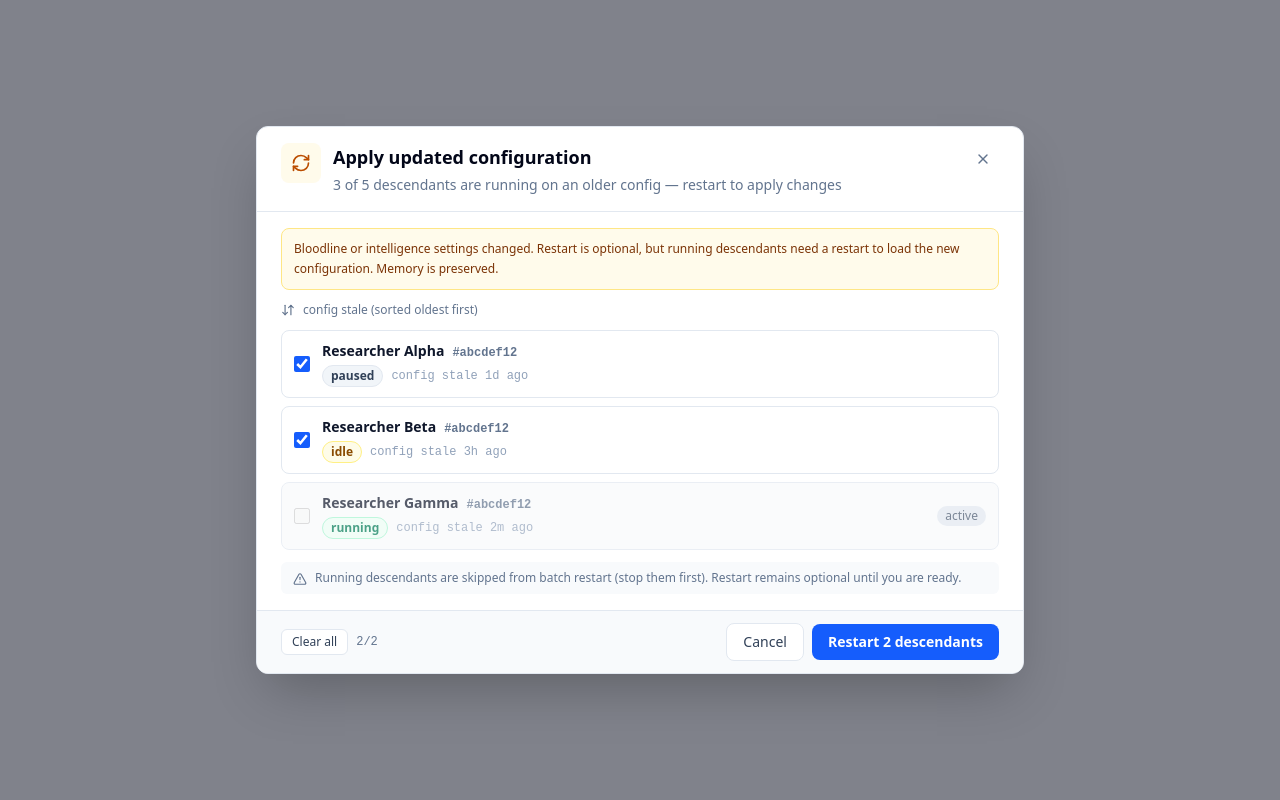
BatchRestartModal › switches the toggle-all label to "Clear all" once everything is selected
The image size is (1280, 800).
Click the button with test id "batch-restart-toggle-all".
click(315, 642)  # box [281, 629, 348, 655]
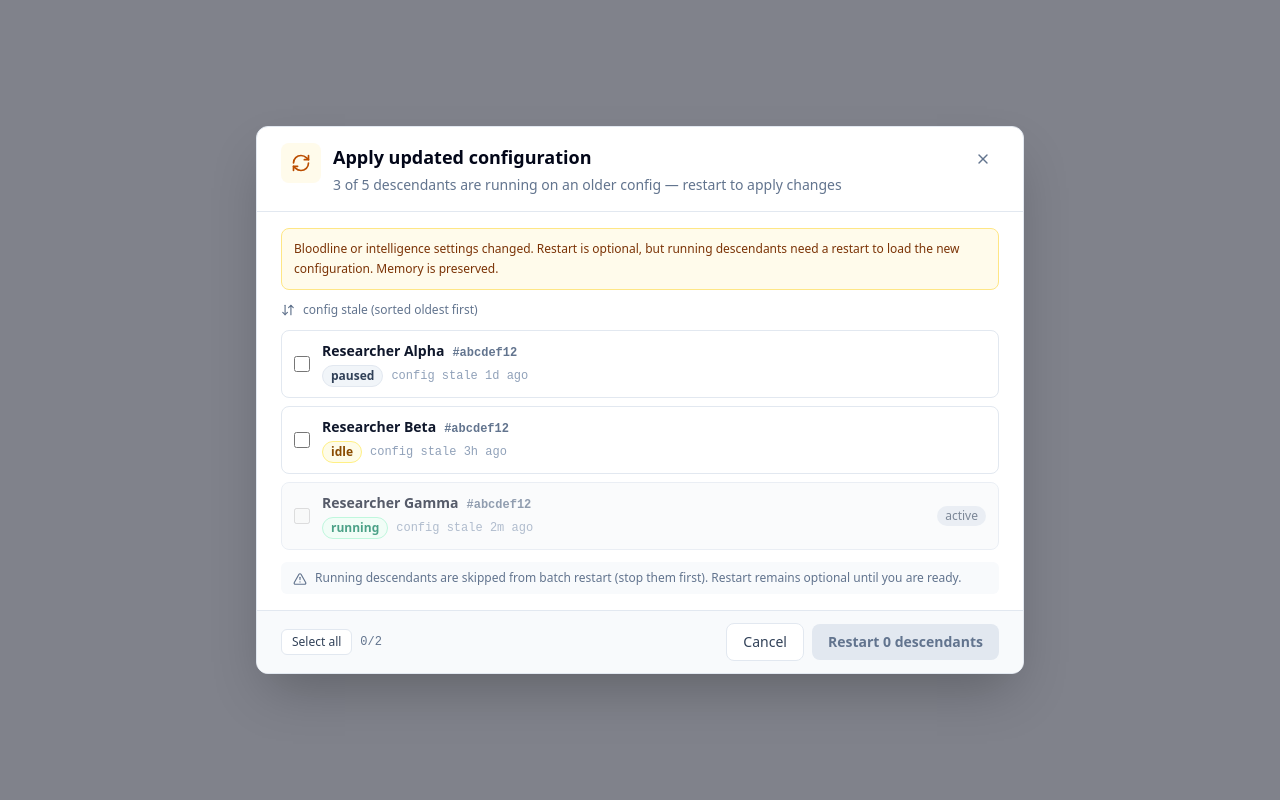
Expected: the button with test id "batch-restart-toggle-all" reads "Select all", [281, 629, 352, 655]
Expected: the text with test id "batch-restart-selected-count" reads "0/2", [360, 634, 382, 650]
